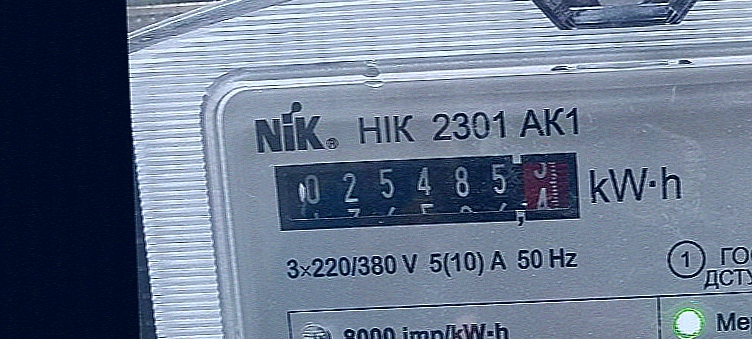0: (301, 168, 323, 204)
2: (340, 166, 361, 202)
4: (413, 160, 435, 195), (533, 182, 553, 210)
5: (488, 157, 510, 195), (376, 162, 397, 198)
8: (452, 159, 473, 198)
screen: (265, 141, 590, 240)
